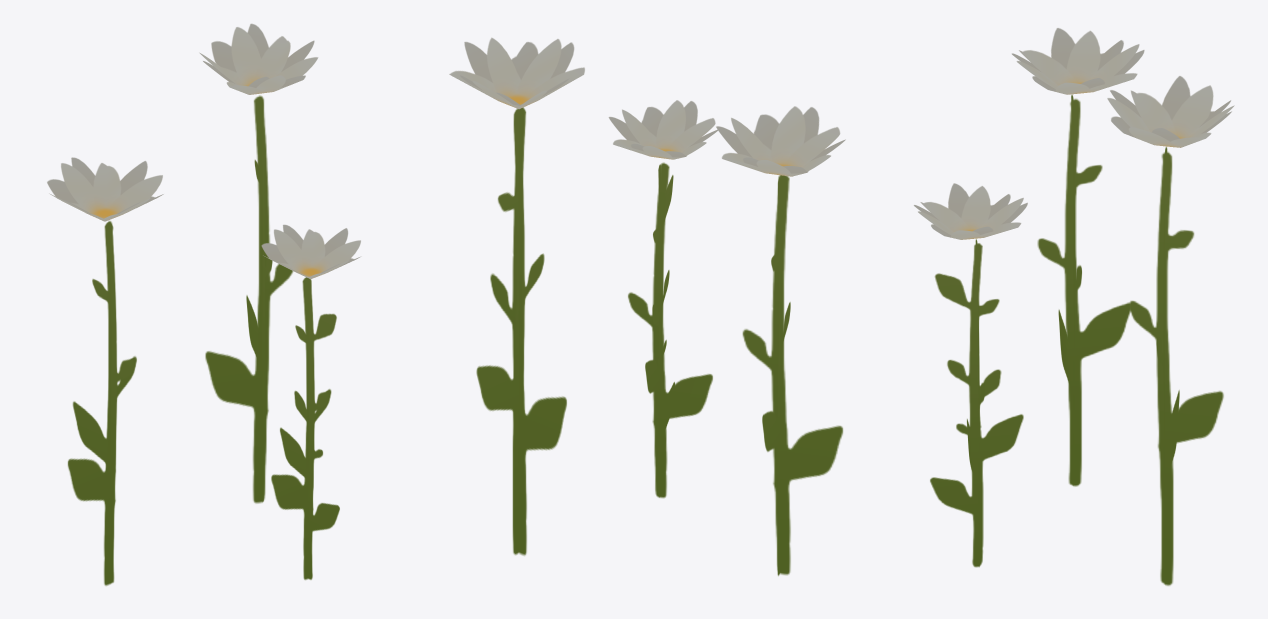
The model's file is flower03.glb.
The picture shows the model from 3 angles, left to right: view 1: azimuth 30°, elevation 25°; view 2: azimuth 150°, elevation 25°; view 3: azimuth 270°, elevation 25°; orthographic projection. The views are drawn at different scales.
Visible parts, largest first — view 1: Flower03; view 2: Flower03; view 3: Flower03.
Part boxes in pixels (x1=…): Flower03: x1=47, y1=23, x2=361, y2=585; Flower03: x1=449, y1=37, x2=845, y2=575; Flower03: x1=914, y1=28, x2=1234, y2=585.
Bounding box in the file's own units: 0.2235 × 0.2963 × 0.1937.
1 material, 1 textured.
